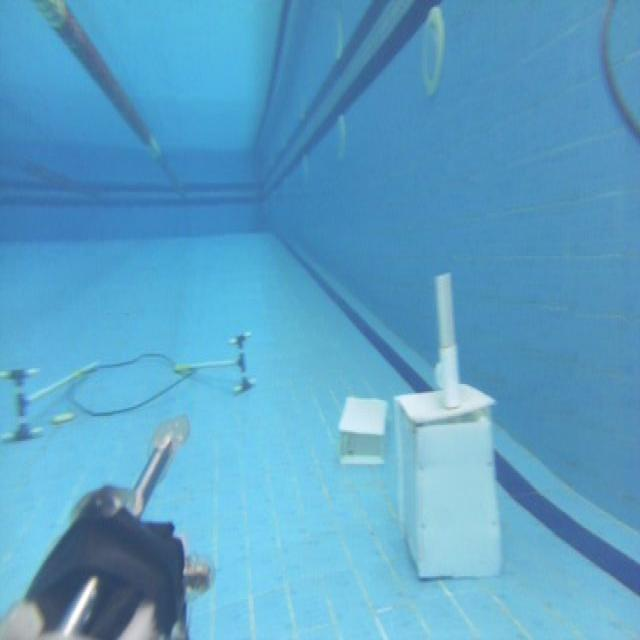Cube: (393, 380, 503, 580)
Cuboid: (337, 393, 388, 466)
